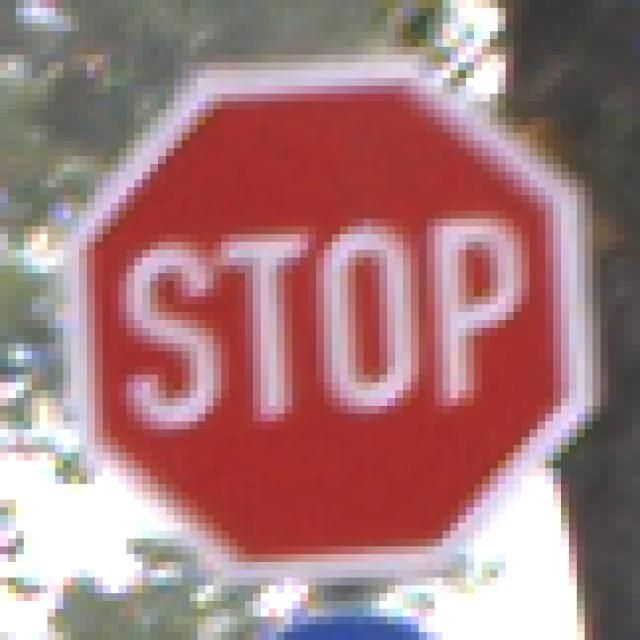STOP: (56, 64, 586, 587)
